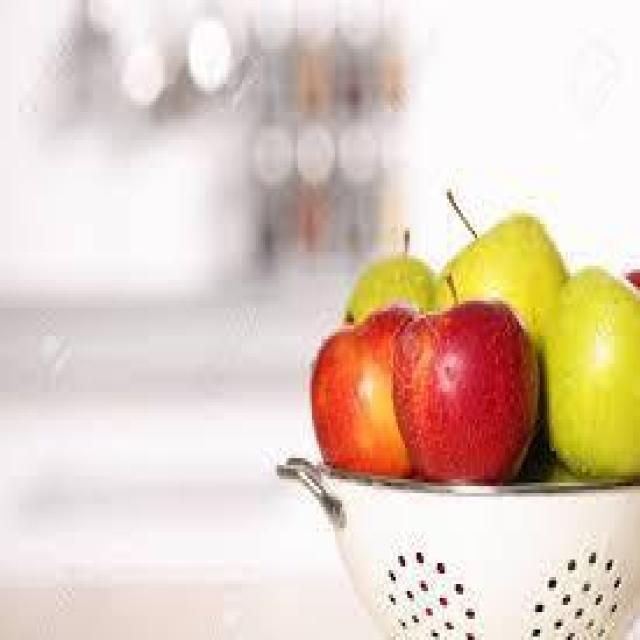maca: (307, 185, 638, 483), (391, 294, 540, 482), (540, 262, 638, 479)
